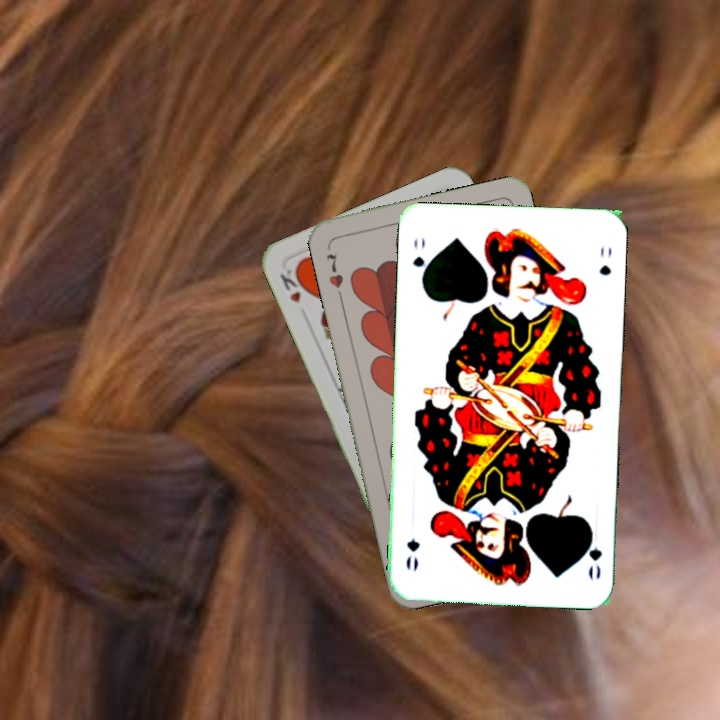GO: (581, 523, 605, 583), (408, 234, 431, 287)
H7: (322, 249, 346, 291)
HK: (275, 262, 310, 306)
